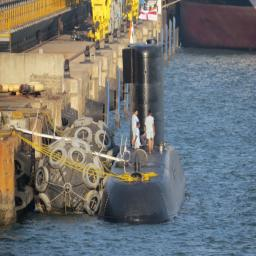submarine: (109, 36, 190, 225)
